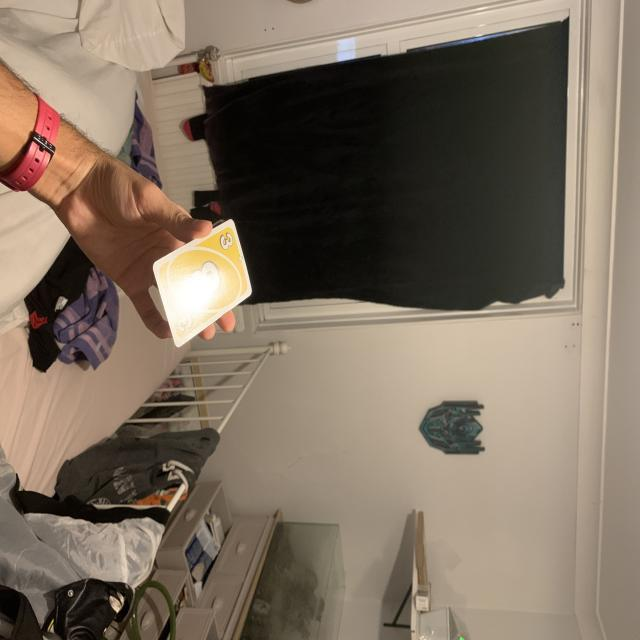lyellow-3: (215, 230, 237, 254)
